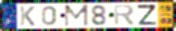0: (40, 5, 59, 27)
8: (90, 4, 108, 26)
K: (19, 6, 36, 27)
M: (64, 4, 90, 28)
R: (113, 4, 137, 26)
Z: (136, 4, 159, 26)
